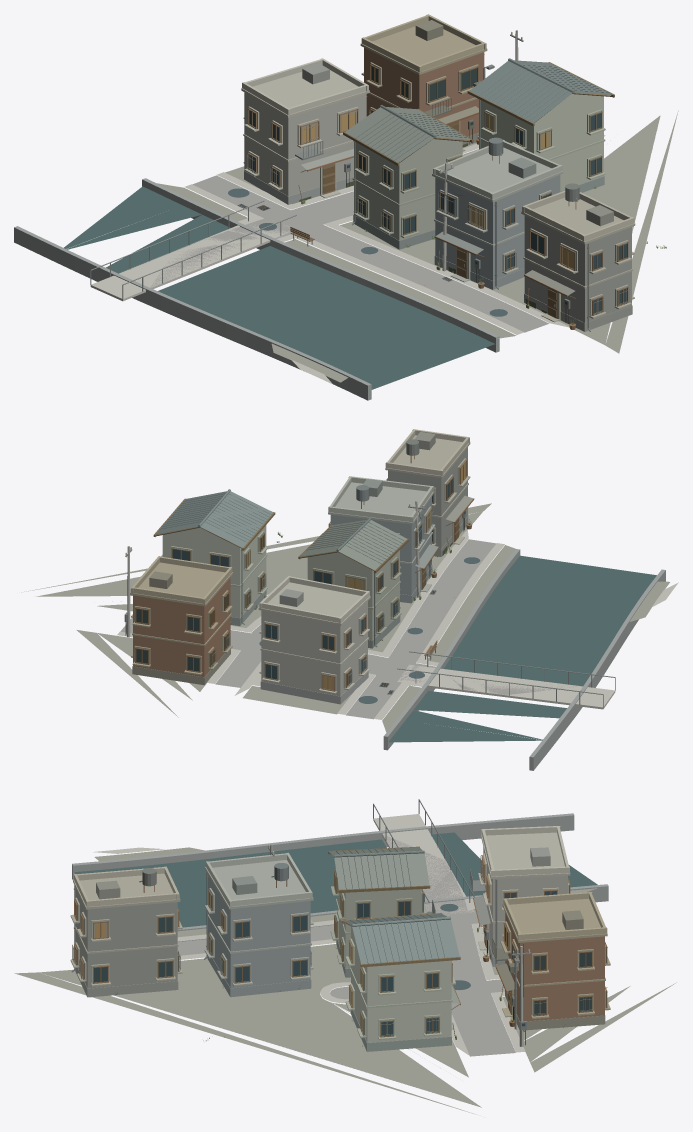
File: street_8_6.glb
3 views of the same model, one above another, from view 1: azimuth 30°, elevation 25°; view 2: azimuth 150°, elevation 25°; view 3: azimuth 270°, elevation 25° (orthographic). The views are drawn at different scales.
Visible parts, largest first — view 1: water.012, graybrick.037, plaster.037, trim.037, ground.012, road.043, paving.024, roof_metal.037, wood.037, concrete.027, metal.037, roof_tile.030 (+4 smaller); view 2: water.012, trim.037, plaster.037, graybrick.037, ground.012, road.043, paving.024, concrete.027, brick.013, roof_metal.037, wood.037, roof_tile.030 (+2 smaller); view 3: graybrick.037, ground.012, trim.037, plaster.037, road.043, water.012, roof_metal.037, wood.037, brick.013, paving.024, roof_tile.030, glass.037 (+2 smaller).
Part boxes in pixels (x1,y1,x2,y2): water.012: [64, 186, 494, 389]; graybrick.037: [14, 132, 632, 400]; plaster.037: [242, 14, 634, 241]; trim.037: [241, 26, 635, 322]; ground.012: [157, 110, 678, 382]; road.043: [150, 149, 548, 332]; paving.024: [90, 144, 569, 384]; roof_metal.037: [301, 20, 613, 295]; wood.037: [247, 62, 628, 318]; concrete.027: [244, 30, 518, 271]; metal.037: [90, 34, 629, 331]; roof_tile.030: [380, 58, 612, 138]; water.012: [388, 555, 656, 742]; trim.037: [130, 435, 470, 694]; plaster.037: [131, 429, 469, 640]; graybrick.037: [132, 447, 665, 770]; ground.012: [21, 503, 669, 732]; road.043: [120, 539, 580, 719]; paving.024: [117, 529, 678, 719]; concrete.027: [127, 500, 420, 696]; brick.013: [133, 577, 230, 676]; roof_metal.037: [149, 432, 473, 606]; wood.037: [135, 459, 467, 691]; roof_tile.030: [156, 489, 371, 551]; graybrick.037: [72, 813, 608, 1051]; ground.012: [14, 847, 676, 1114]; trim.037: [70, 832, 610, 1040]; plaster.037: [74, 826, 607, 1042]; road.043: [177, 834, 515, 1056]; water.012: [74, 827, 597, 927]; roof_metal.037: [96, 847, 583, 1003]; wood.037: [74, 846, 607, 1038]; brick.013: [505, 913, 604, 1021]; paving.024: [93, 814, 525, 1055]; roof_tile.030: [334, 850, 459, 964]; glass.037: [75, 871, 606, 1035].
Size of the model in its own units: 47.58 by 9.24 by 43.99.
